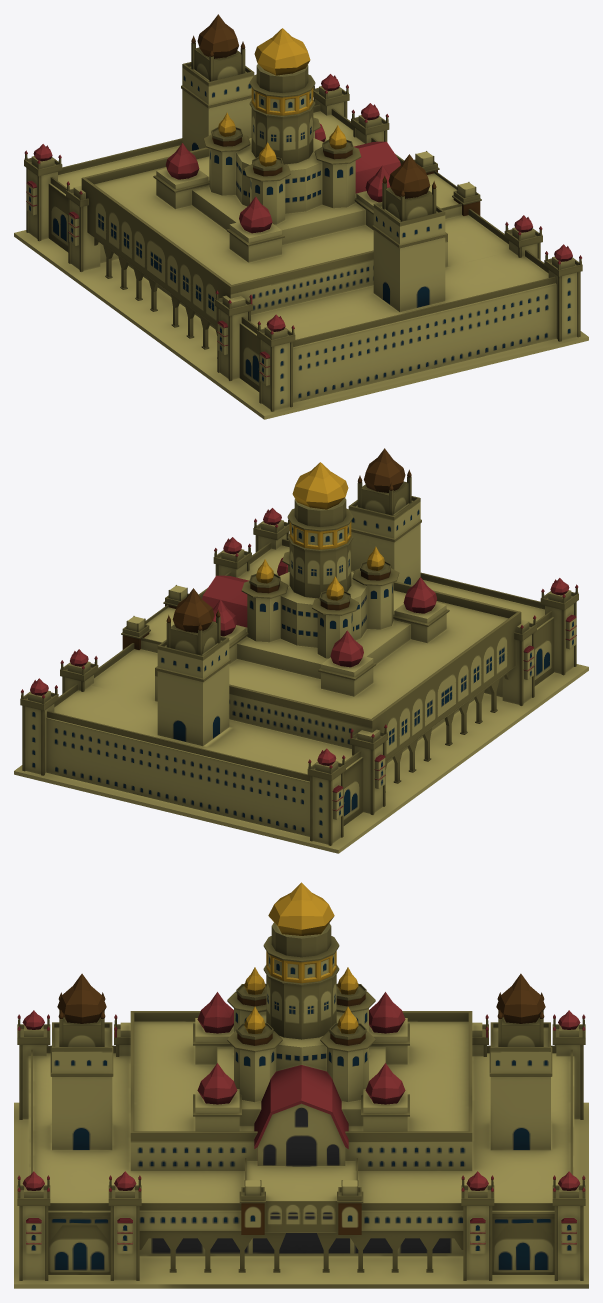
Rendered from 0ddb467b-9649-4a1d-8ca2-ac5351050b4e.glb.
The picture shows the model from 3 angles, top to bottom: view 1: azimuth 30°, elevation 25°; view 2: azimuth 150°, elevation 25°; view 3: azimuth 270°, elevation 25°; orthographic projection. The views are drawn at different scales.
Visible parts, largest first — view 1: Palace_mesh; view 2: Palace_mesh; view 3: Palace_mesh.
Part boxes in pixels (bbox=[...]): Palace_mesh: bbox=[14, 14, 588, 419]; Palace_mesh: bbox=[14, 448, 588, 853]; Palace_mesh: bbox=[14, 882, 588, 1288].
Bounding box in the file's own units: 29.09 × 22.72 × 38.85.
Materials: 1 (1 with a texture image).
